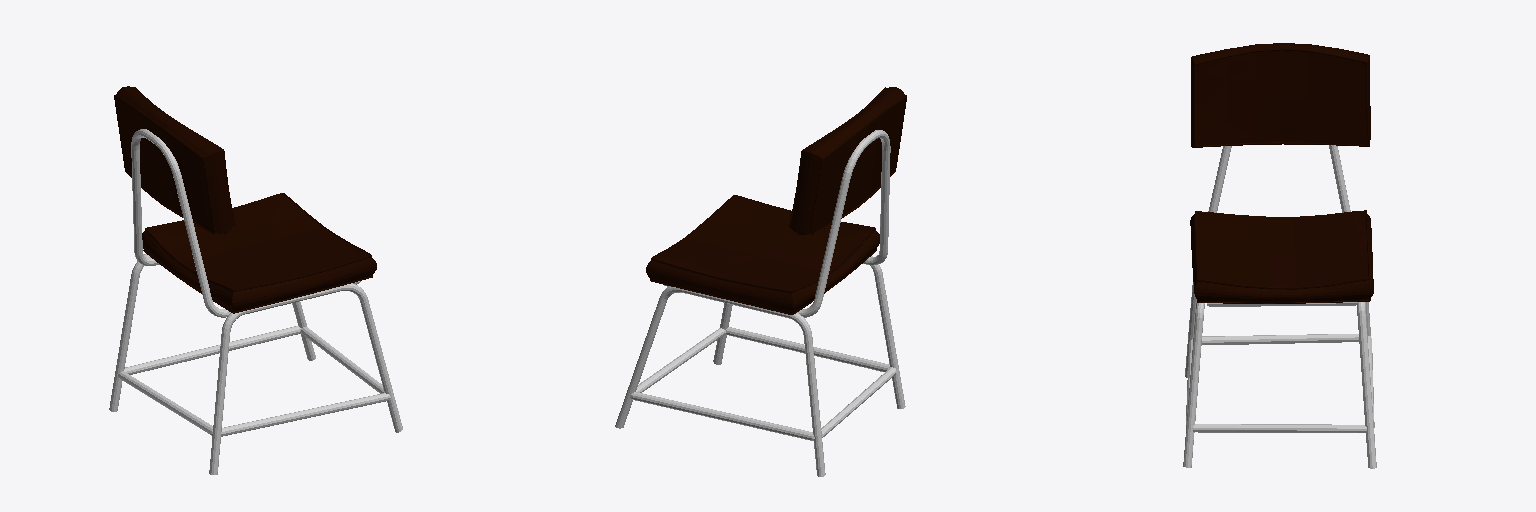
File: chairs.obj
The picture shows the model from 3 angles: view 1: azimuth 30°, elevation 25°; view 2: azimuth 150°, elevation 25°; view 3: azimuth 270°, elevation 25°; orthographic projection.
Parts seen in each view (by area): view 1: Plane.018, Line265.002; view 2: Plane.018, Line265.002; view 3: Plane.018, Line265.002.
Part boxes in pixels (x1,y1,x2,y2): Plane.018: (114,86,376,313); Line265.002: (109,129,402,474); Plane.018: (646,87,906,314); Line265.002: (615,130,905,476); Plane.018: (1190,43,1373,303); Line265.002: (1183,145,1376,468).
Bounding box in the file's own units: 0.5589 × 0.8331 × 0.4422.